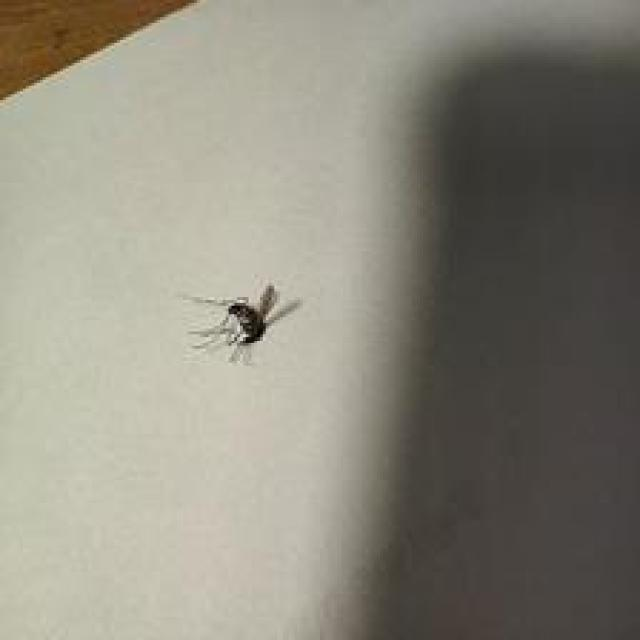Aedes albopictus: (178, 282, 302, 367)
